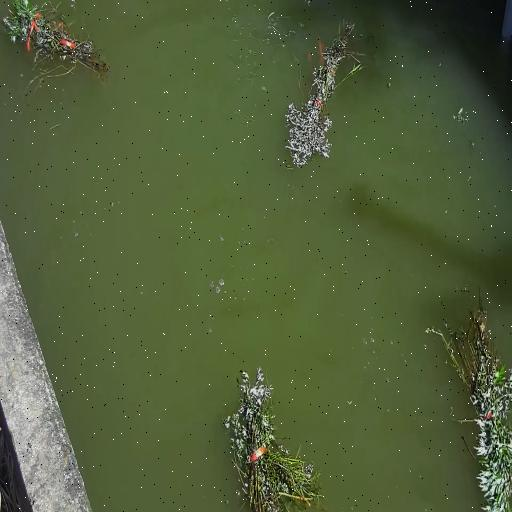twig: (426, 286, 512, 512), (224, 364, 325, 512), (285, 17, 367, 167), (4, 2, 112, 88)
